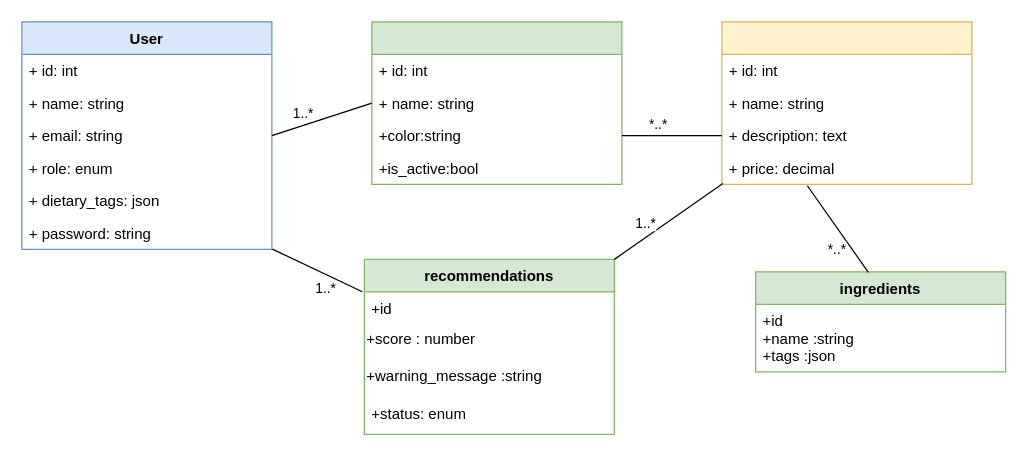
The diagram is 1028 pixels wide and 460 high, and some of its shapes have lost their labels. Here are the shapes that lost their labels. From the top down, the box of each, then its label:
(371, 21, 622, 184): Category
(721, 21, 972, 184): Plat
